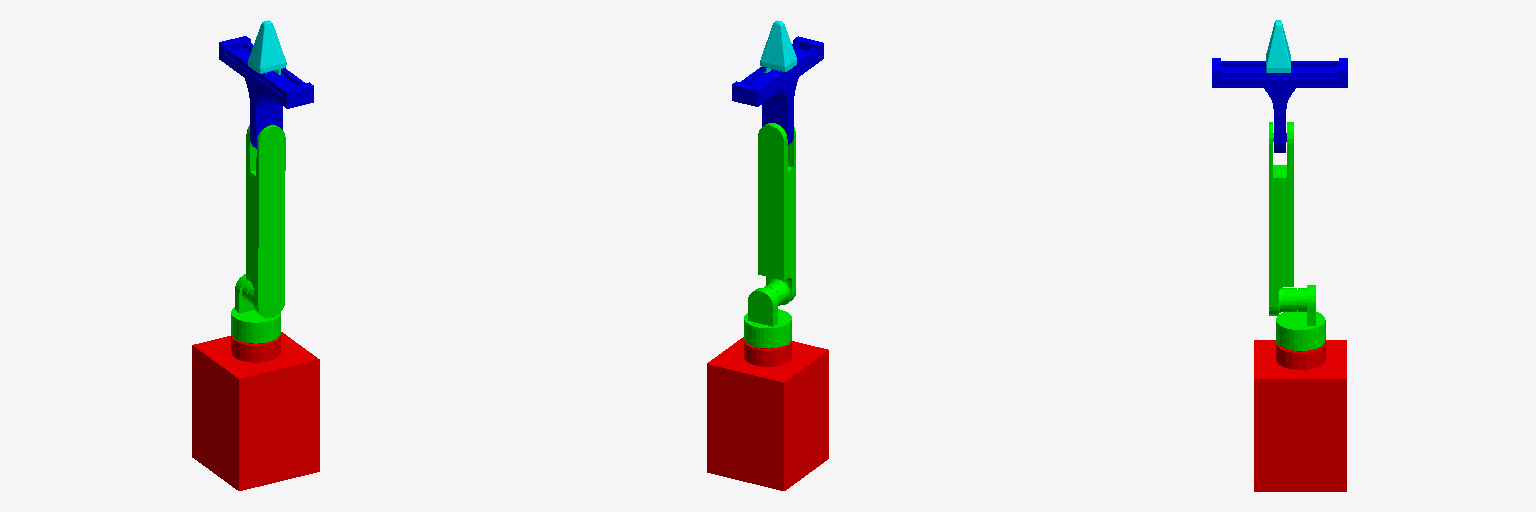
The robot description file, URDF, robot "rrr_arm":
<?xml version="1.0" encoding="utf-8"?>
<!-- This URDF was automatically created by SolidWorks to URDF Exporter! Originally created by [author] ([email redacted]) 
     Commit Version: 1.6.0-1-g15f4949  Build Version: 1.6.7594.29634
     For more information, please see http://wiki.ros.org/sw_urdf_exporter -->
<robot
  name="rrr_arm">

  <link name="world"/>
  

  <joint name="base_joint" type="fixed">
    <parent link="world"/>
    <child link="base_link"/>
    <origin xyz="0.0 0.0 0.199" rpy="0.0 0.0 0.0"/>
  </joint>
  
  <link
    name="base_link">
    <inertial>
      <origin
        xyz="2.9724E-06 -0.095252 -2.2887E-06"
        rpy="0 0 0" />
      <mass
        value="36.091" />
      <inertia
        ixx="0.20075"
        ixy="5.0161E-07"
        ixz="2.116E-09"
        iyy="0.13103"
        iyz="2.782E-06"
        izz="0.20075" />
    </inertial>
    <visual>
      <origin
        xyz="0 0 0"
        rpy="0 0 0" />
      <geometry>
        <mesh
          filename="package://rrr_arm/meshes/base_link.STL" />
      </geometry>
      <material
        name="">
        <color
          rgba="1 0 0 1" />
      </material>
    </visual>
    <collision>
      <origin
        xyz="0 0 0"
        rpy="0 0 0" />
      <geometry>
        <mesh
          filename="package://rrr_arm/meshes/base_link.STL" />
      </geometry>
    </collision>
  </link>
  <link
    name="link_1">
    <inertial>
      <origin
        xyz="-1.2862E-05 0.037934 -0.0025981"
        rpy="0 0 0" />
      <mass
        value="1.7235" />
      <inertia
        ixx="0.0016319"
        ixy="-8.0768E-07"
        ixz="5.8946E-08"
        iyy="0.001175"
        iyz="0.00012725"
        izz="0.0016044" />
    </inertial>
    <visual>
      <origin
        xyz="0 0 0"
        rpy="0 0 0" />
      <geometry>
        <mesh
          filename="package://rrr_arm/meshes/link_1.STL" />
      </geometry>
      <material
        name="">
        <color
          rgba="0 1 0 1" />
      </material>
    </visual>
    <collision>
      <origin
        xyz="0 0 0"
        rpy="0 0 0" />
      <geometry>
        <mesh
          filename="package://rrr_arm/meshes/link_1.STL" />
      </geometry>
    </collision>
  </link>
  <joint
    name="joint_1"
    type="revolute">
    <origin
      xyz="0 0 0.031"
      rpy="1.5708 0 0" />
    <parent
      link="base_link" />
    <child
      link="link_1" />
    <axis
      xyz="0 1 0" />
    <limit
      lower="-2.61"
      upper="2.61"
      effort="20"
      velocity="2" />
  </joint>
  <link
    name="link_2">
    <inertial>
      <origin
        xyz="-3.605E-18 0.1356 0.025302"
        rpy="0 0 0" />
      <mass
        value="3.8974" />
      <inertia
        ixx="0.028517"
        ixy="-2.0064E-19"
        ixz="2.3982E-20"
        iyy="0.0013623"
        iyz="0.00050471"
        izz="0.02872" />
    </inertial>
    <visual>
      <origin
        xyz="0 0 0"
        rpy="0 0 0" />
      <geometry>
        <mesh
          filename="package://rrr_arm/meshes/link_2.STL" />
      </geometry>
      <material
        name="">
        <color
          rgba="0 1 0 1" />
      </material>
    </visual>
    <collision>
      <origin
        xyz="0 0 0"
        rpy="0 0 0" />
      <geometry>
        <mesh
          filename="package://rrr_arm/meshes/link_2.STL" />
      </geometry>
    </collision>
  </link>
  <joint
    name="joint_2"
    type="revolute">
    <origin
      xyz="0 0.075 0.006"
      rpy="0 0 -0.00066622" />
    <parent
      link="link_1" />
    <child
      link="link_2" />
    <axis
      xyz="0 0 1" />
    <limit
      lower="-1.5701"
      upper="1.5715"
      effort="20"
      velocity="2" />
  </joint>
  <link
    name="link_3">
    <inertial>
      <origin
        xyz="-0.085488 2.0166E-16 -0.027458"
        rpy="0 0 0" />
      <mass
        value="2.6549" />
      <inertia
        ixx="0.0078884"
        ixy="8.2963E-18"
        ixz="-9.6143E-06"
        iyy="0.011372"
        iyz="-1.4951E-19"
        izz="0.0046215" />
    </inertial>
    <visual>
      <origin
        xyz="0 0 0"
        rpy="0 0 0" />
      <geometry>
        <mesh
          filename="package://rrr_arm/meshes/link_3.STL" />
      </geometry>
      <material
        name="">
        <color
          rgba="0 0 1 1" />
      </material>
    </visual>
    <collision>
      <origin
        xyz="0 0 0"
        rpy="0 0 0" />
      <geometry>
        <mesh
          filename="package://rrr_arm/meshes/link_3.STL" />
      </geometry>
    </collision>
  </link>
  <joint
    name="joint_3"
    type="revolute">
    <origin
      xyz="0 0.29 0.03"
      rpy="3.1416 0 -1.5708" />
    <parent
      link="link_2" />
    <child
      link="link_3" />
    <axis
      xyz="0 0 1" />
    <limit
      lower="-2.0944"
      upper="2.1817"
      effort="20"
      velocity="2" />
  </joint>
  <link
    name="gripper_left">
    <inertial>
      <origin
        xyz="-8.0344E-06 0.024881 -0.011816"
        rpy="0 0 0" />
      <mass
        value="0.31443" />
      <inertia
        ixx="0.00013189"
        ixy="-1.289E-08"
        ixz="1.5157E-09"
        iyy="5.6101E-05"
        iyz="1.168E-05"
        izz="0.0001712" />
    </inertial>
    <visual>
      <origin
        xyz="0 0 0"
        rpy="0 0 0" />
      <geometry>
        <mesh
          filename="package://rrr_arm/meshes/gripper_left.STL" />
      </geometry>
      <material
        name="">
        <color
          rgba="0 1 1 1" />
      </material>
    </visual>
    <collision>
      <origin
        xyz="0 0 0"
        rpy="0 0 0" />
      <geometry>
        <mesh
          filename="package://rrr_arm/meshes/gripper_left.STL" />
      </geometry>
    </collision>
  </link>
  <joint
    name="grip_left"
    type="prismatic">
    <origin
      xyz="-0.126 0 0.0"
      rpy="0 0 1.5708" />
    <parent
      link="link_3" />
    <child
      link="gripper_left" />
    <axis
      xyz="0 0 1" />
    <limit
      lower="0"
      upper="0.075"
      effort="50"
      velocity="0.5" />
    <mimic
      joint="grip_right"
      multiplier="1"
      offset="0" />
  </joint>
  <link
    name="gripper_right">
    <inertial>
      <origin
        xyz="-8.0344E-06 0.024881 0.008184"
        rpy="0 0 0" />
      <mass
        value="0.31443" />
      <inertia
        ixx="0.00013189"
        ixy="-1.289E-08"
        ixz="1.5159E-09"
        iyy="5.6101E-05"
        iyz="1.168E-05"
        izz="0.0001712" />
    </inertial>
    <visual>
      <origin
        xyz="0 0 0"
        rpy="0 0 0" />
      <geometry>
        <mesh
          filename="package://rrr_arm/meshes/gripper_right.STL" />
      </geometry>
      <material
        name="">
        <color
          rgba="0 1 1 1" />
      </material>
    </visual>
    <collision>
      <origin
        xyz="0 0 0"
        rpy="0 0 0" />
      <geometry>
        <mesh
          filename="package://rrr_arm/meshes/gripper_right.STL" />
      </geometry>
    </collision>
  </link>
  <joint
    name="grip_right"
    type="prismatic">
    <origin
      xyz="-0.126 0 0.0"
      rpy="3.1416 0 -1.5708" />
    <parent
      link="link_3" />
    <child
      link="gripper_right" />
    <axis
      xyz="0 0 1" />
    <limit
      lower="0"
      upper="0.07"
      effort="50"
      velocity="0.5" />
  </joint>

  <transmission name="trans_joint_1">
        <type>transmission_interface/SimpleTransmission</type>
        <joint name="joint_1">
            <hardwareInterface>hardware_interface/PositionJointInterface</hardwareInterface>
        </joint>
        <actuator name="joint_1_motor">
            <hardwareInterface>hardware_interface/PositionJointInterface</hardwareInterface>
            <mechanicalReduction>1</mechanicalReduction>
        </actuator>
  </transmission>
  
  <transmission name="trans_joint_2">
        <type>transmission_interface/SimpleTransmission</type>
        <joint name="joint_2">
            <hardwareInterface>hardware_interface/PositionJointInterface</hardwareInterface>
        </joint>
        <actuator name="joint_2_motor">
            <hardwareInterface>hardware_interface/PositionJointInterface</hardwareInterface>
            <mechanicalReduction>1</mechanicalReduction>
        </actuator>
  </transmission>
  
  <transmission name="trans_joint_3">
        <type>transmission_interface/SimpleTransmission</type>
        <joint name="joint_3">
            <hardwareInterface>hardware_interface/PositionJointInterface</hardwareInterface>
        </joint>
        <actuator name="joint_3_motor">
            <hardwareInterface>hardware_interface/PositionJointInterface</hardwareInterface>
            <mechanicalReduction>1</mechanicalReduction>
        </actuator>
  </transmission>
  
  <transmission name="trans_gripper_joint_1">
        <type>transmission_interface/SimpleTransmission</type>
        <joint name="grip_right">
            <hardwareInterface>hardware_interface/PositionJointInterface</hardwareInterface>
        </joint>
        <actuator name="grip_right_motor">
            <hardwareInterface>hardware_interface/PositionJointInterface</hardwareInterface>
            <mechanicalReduction>1</mechanicalReduction>
        </actuator>
  </transmission>
  
  <transmission name="trans_gripper_joint_2">
        <type>transmission_interface/SimpleTransmission</type>
        <joint name="grip_left">
            <hardwareInterface>hardware_interface/PositionJointInterface</hardwareInterface>
        </joint>
        <actuator name="grip_left_motor">
            <hardwareInterface>hardware_interface/PositionJointInterface</hardwareInterface>
            <mechanicalReduction>1</mechanicalReduction>
        </actuator>
  </transmission>
  
  <gazebo>
      <plugin name="gazebo_ros_control" filename="libgazebo_ros_control.so">
        <robotNamespace>/rrr_arm</robotNamespace>
      </plugin>

      <plugin name="gripper_joint_mimic" filename="librobotics_gazebo_mimic_joint_plugin.so">
        <joint name="grip_right" />
        <mimicJoint name="grip_left" />
        <multiplier value="1" />
        <offset value="0" />
      </plugin>
  </gazebo>
</robot>

--- Render facts (derived) ---
3 views of the same robot in one strip: view 1: azimuth 30°, elevation 25°; view 2: azimuth 150°, elevation 25°; view 3: azimuth 270°, elevation 25° (orthographic).
Robot: rrr_arm — 7 links, 6 joints (3 revolute, 2 prismatic, 1 fixed); root link world; default pose: every joint at zero.
Visible links, largest first — view 1: base_link, link_2, link_3, link_1, gripper_right; view 2: base_link, link_2, link_3, link_1, gripper_left; view 3: base_link, link_3, link_2, link_1.
Boxes of the visible links, bbox=[...] form: base_link: bbox=[192, 332, 319, 490]; link_2: bbox=[246, 125, 285, 318]; link_3: bbox=[219, 36, 313, 148]; link_1: bbox=[231, 274, 280, 343]; gripper_right: bbox=[254, 21, 286, 74]; base_link: bbox=[707, 337, 828, 490]; link_2: bbox=[758, 123, 795, 305]; link_3: bbox=[732, 36, 823, 144]; link_1: bbox=[744, 287, 791, 348]; gripper_left: bbox=[760, 21, 791, 72]; base_link: bbox=[1254, 340, 1346, 491]; link_3: bbox=[1212, 58, 1347, 152]; link_2: bbox=[1269, 122, 1296, 315]; link_1: bbox=[1276, 285, 1325, 350].
Bounding box of the posed robot: 0.15 × 0.22 × 0.802 m (x, y, z).
Meshes: 6 distinct files referenced, 6 mesh visuals loaded (6 binary STL).